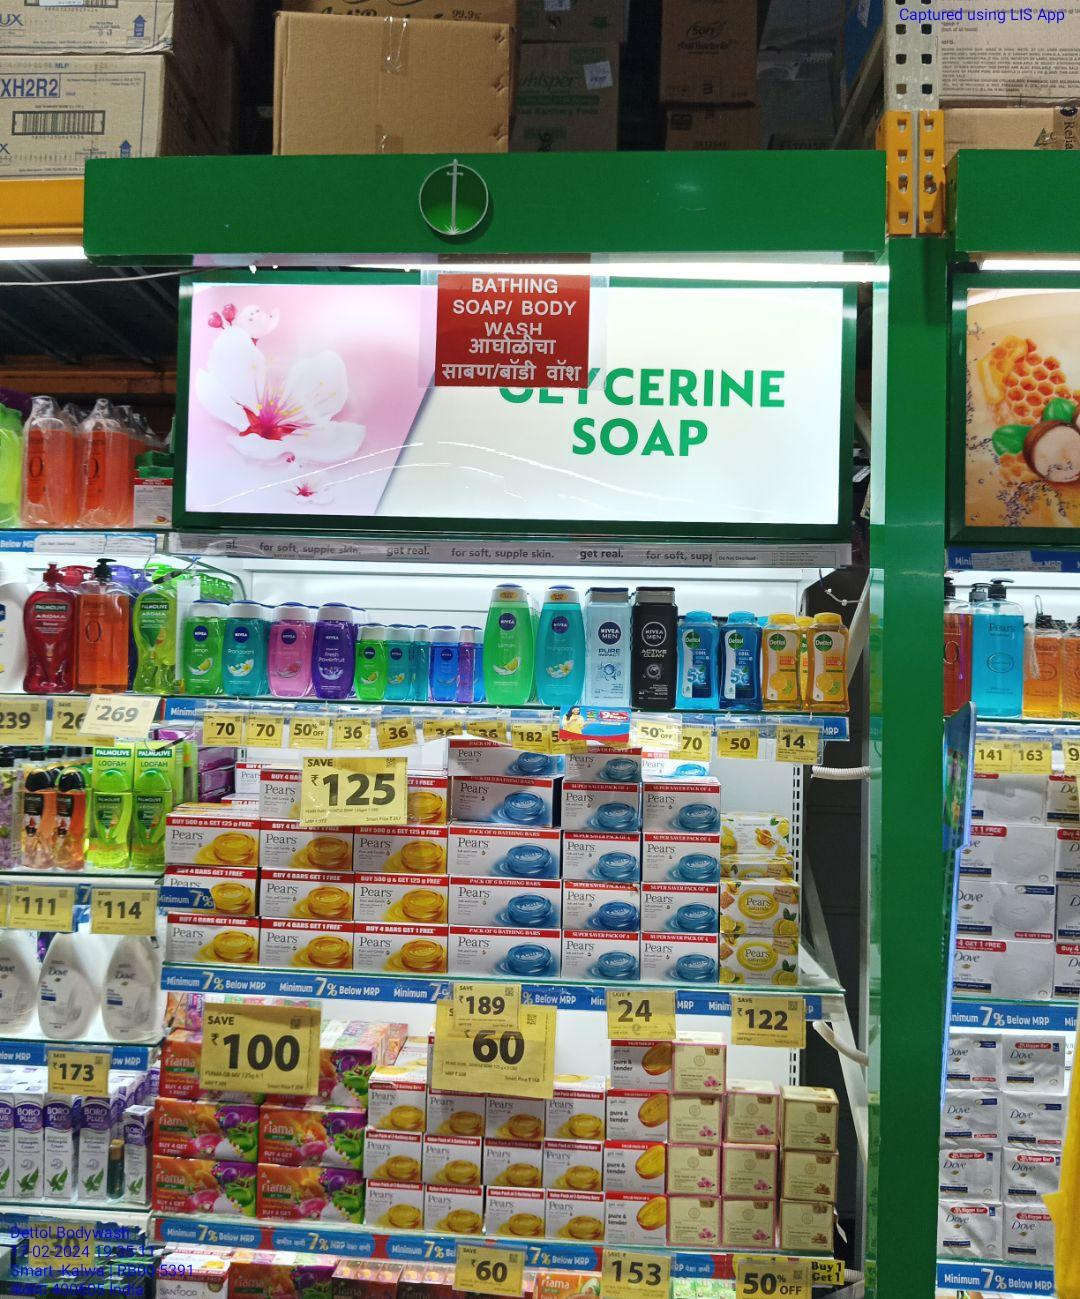Dettol_Bodywash_Cool: (674, 610, 719, 710), (720, 609, 757, 710)
Dettol_Bodywash_Refresh: (761, 613, 803, 712), (808, 612, 849, 713)
Nivea_Shower_Gel_Frangipani_and_Oil_250ML: (536, 587, 582, 706), (223, 599, 263, 701)
Nivea_Shower_Gel_Fresh_Powerfruit_250ML: (314, 602, 356, 700)
Nivea_Shower_Gel_Lemon_and_Oil_250ML: (484, 585, 535, 706), (184, 598, 221, 695)
Nivea_Shower_Gel_Waterlily_and_Oil_250ML: (266, 602, 311, 693)
Palmolive_Aroma_Morning_Tonic_Shower_Gel_250ML: (92, 770, 131, 872), (134, 769, 166, 876)
Palmolive_Luminous_Oils_With_White_Orchid_Shower_Gel_250ML: (52, 770, 86, 877), (20, 768, 51, 877)
